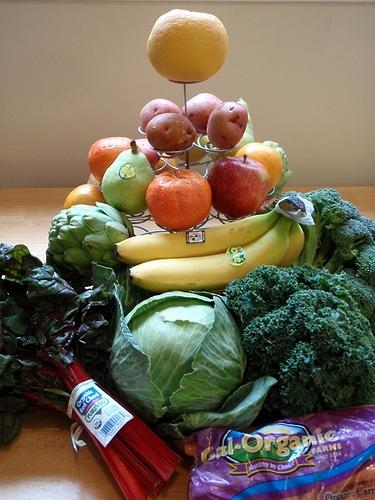apple: (207, 153, 269, 219)
banana: (129, 214, 293, 294), (114, 208, 282, 266), (276, 220, 305, 268)
broccoli: (240, 290, 375, 418), (260, 188, 375, 287)
carrot: (343, 467, 375, 484), (184, 441, 197, 457), (358, 494, 374, 498)
orange: (146, 8, 229, 82), (145, 169, 212, 230), (236, 142, 282, 192), (88, 136, 132, 183), (63, 184, 106, 210), (153, 153, 177, 175)
pear: (102, 139, 156, 214), (210, 98, 255, 164), (178, 134, 210, 163)
potato: (144, 113, 196, 156), (206, 102, 249, 150), (181, 93, 225, 133), (139, 98, 182, 134)
